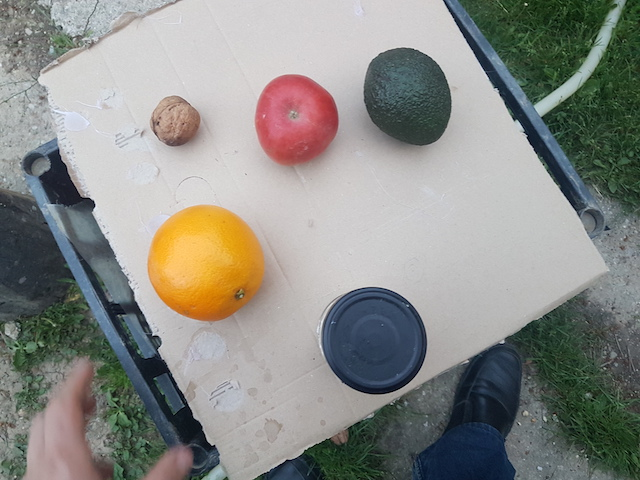apple: (252, 72, 341, 163)
avocado: (360, 46, 454, 148)
nut: (145, 87, 203, 147)
orange: (144, 202, 270, 324)
recipient: (314, 285, 428, 393)
